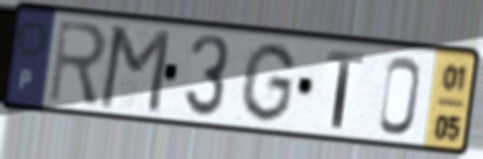0: (378, 55, 424, 137)
3: (182, 32, 231, 121)
G: (236, 40, 300, 126)
M: (95, 22, 174, 117)
R: (46, 16, 110, 108)
T: (324, 47, 366, 131)
